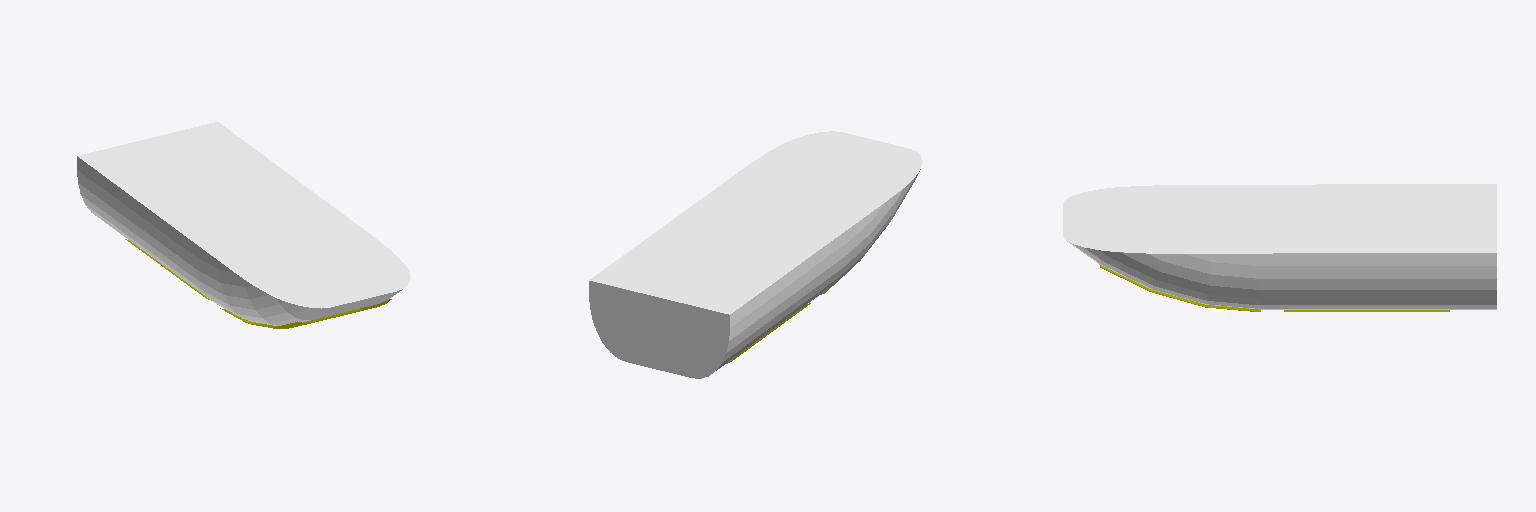
The model's file is RoadLight13.obj.
The picture shows the model from 3 angles: view 1: azimuth 30°, elevation 25°; view 2: azimuth 150°, elevation 25°; view 3: azimuth 270°, elevation 25°; orthographic projection.
Bounding box in the file's own units: 0.75 × 0.3841 × 2.